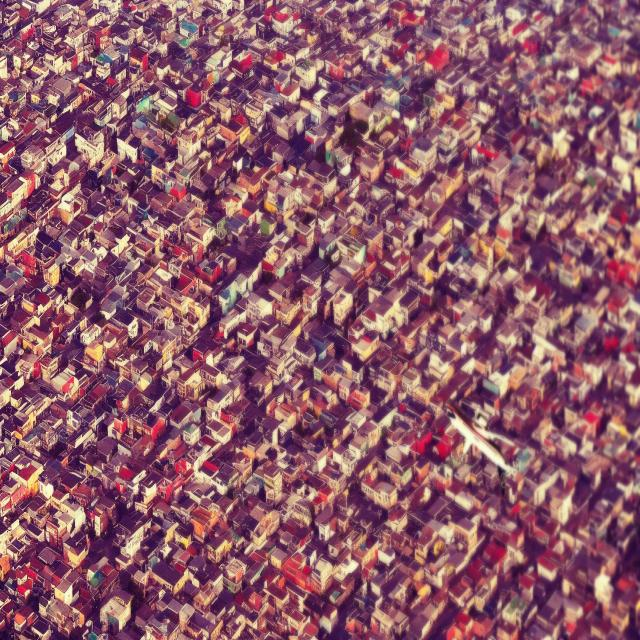airplane: (444, 402, 522, 488)
